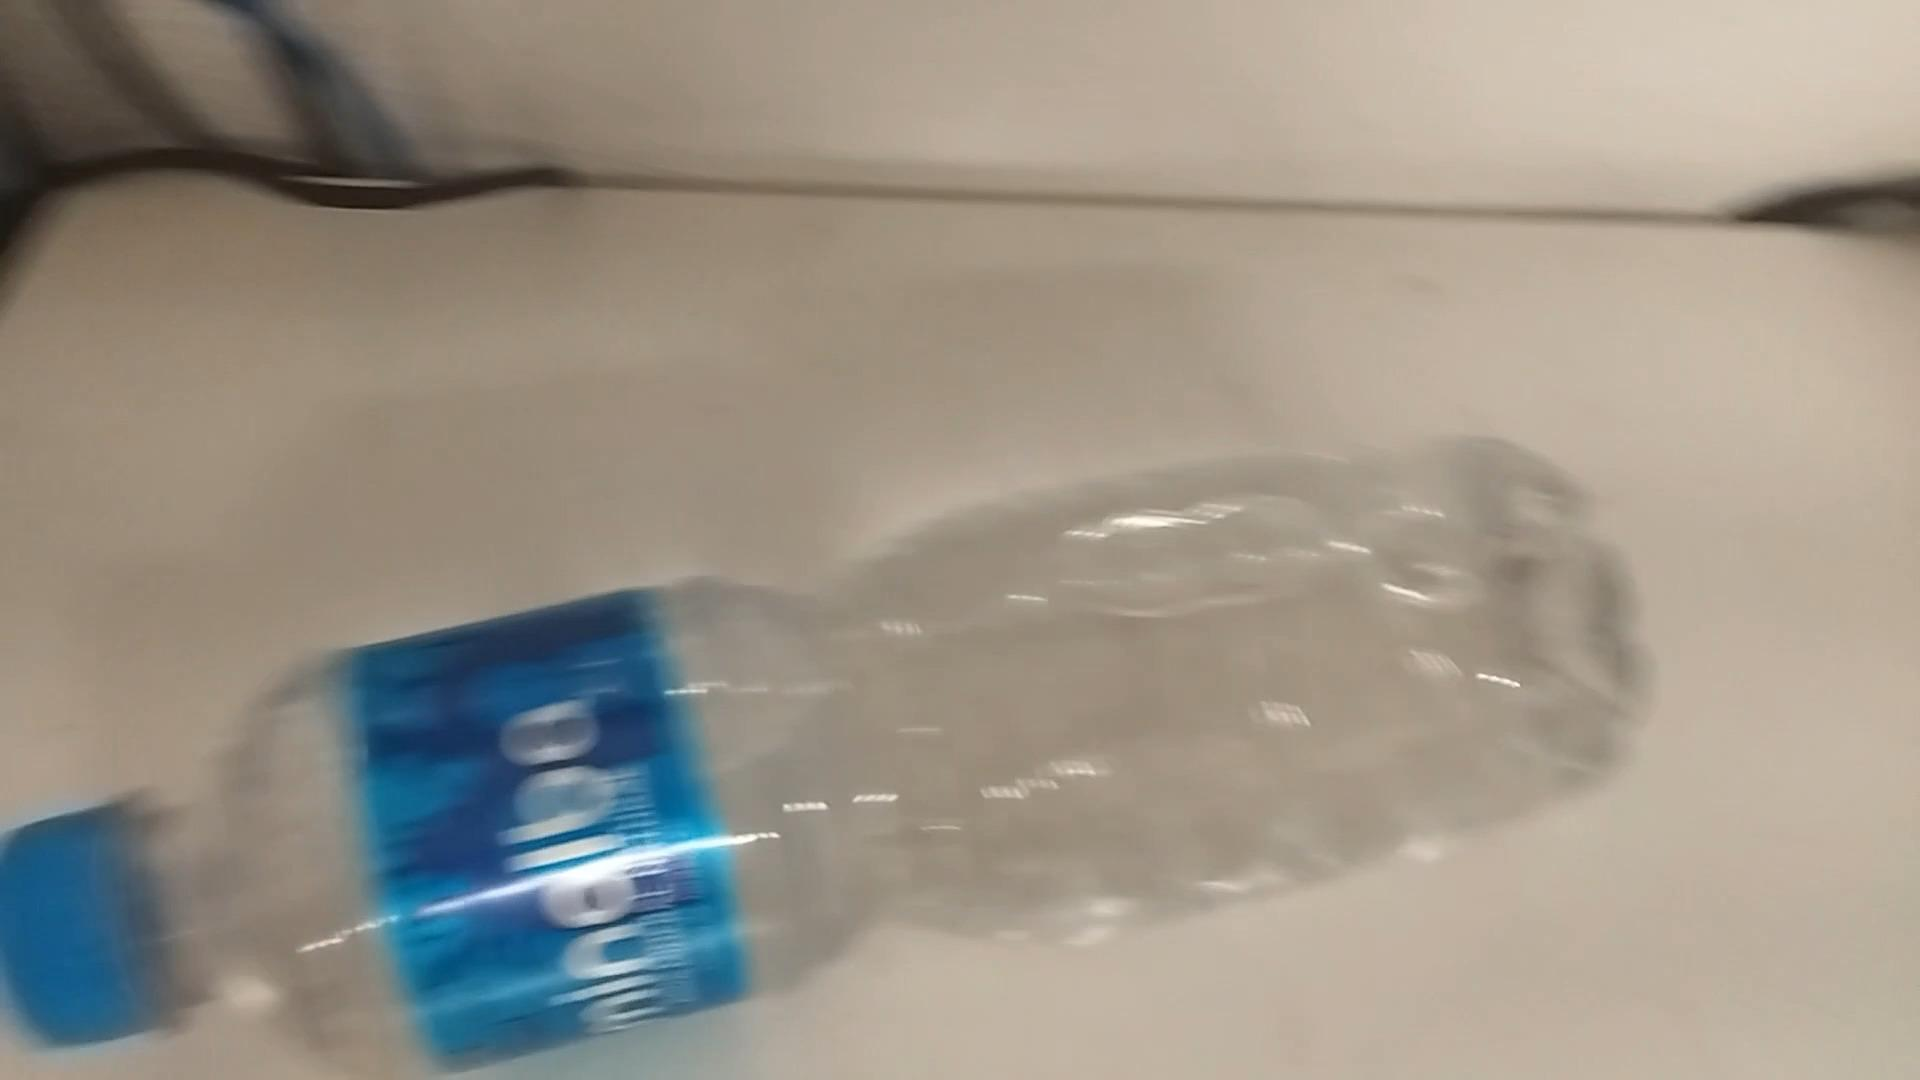agua: (0, 425, 1660, 1080)
